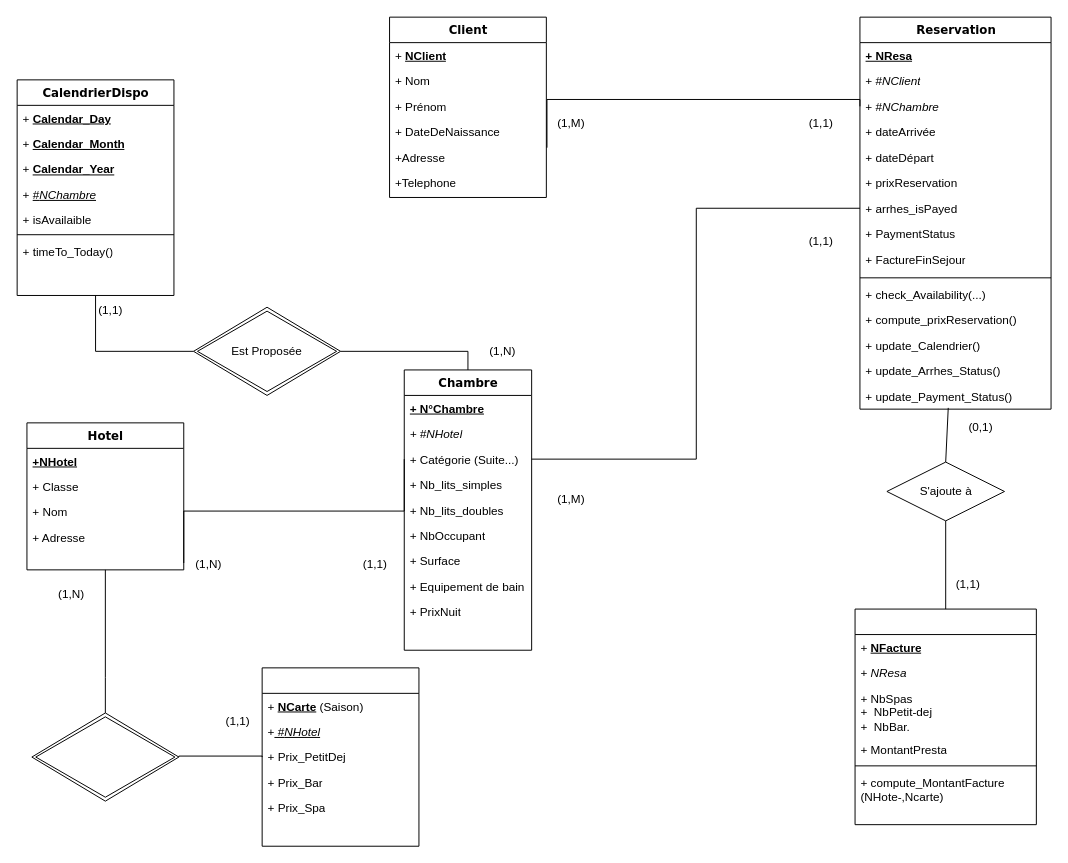
Some shapes in this 1068 by 863 pixel diagram are drawn without their labels. The shapes that lost their labels are listed below. From the top down, each one's box as (x1, y1, x2, y2) in pixels, then its label:
(854, 608, 1036, 825): FacturePresta
(31, 712, 179, 801): Propose
(261, 667, 419, 846): CarteConso
